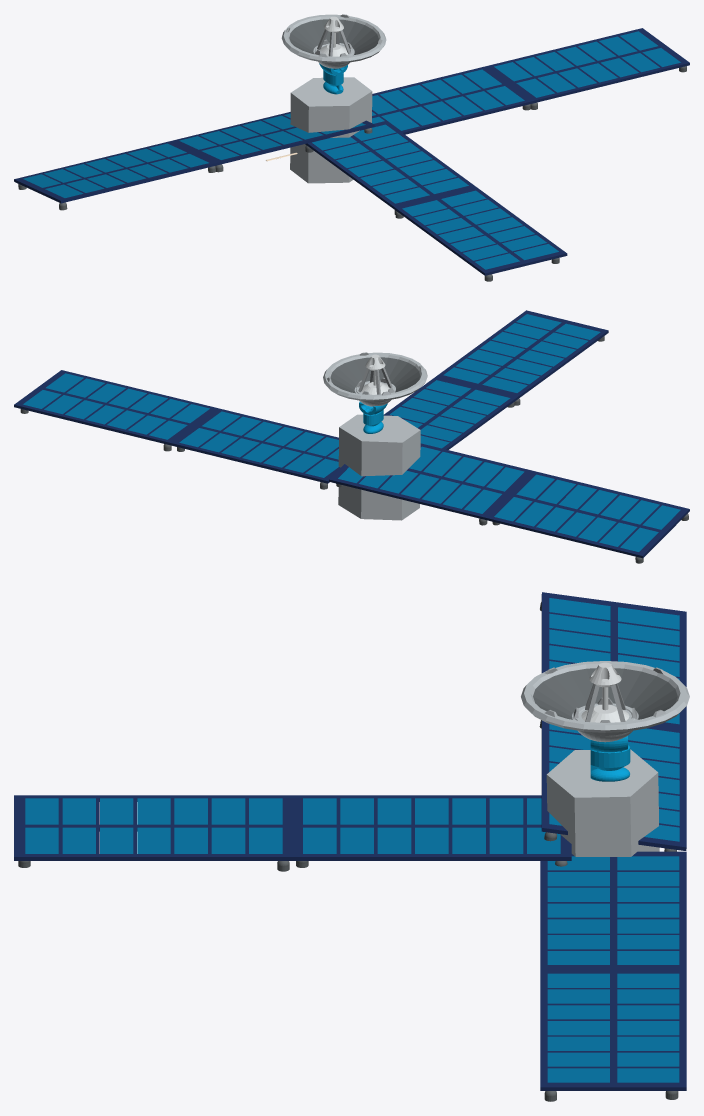
File: tinker.obj
3 views of the same model, one above another, from view 1: azimuth 30°, elevation 25°; view 2: azimuth 150°, elevation 25°; view 3: azimuth 270°, elevation 25° (orthographic). The views are drawn at different scales.
Visible parts, largest first — view 1: group_0_30377, group_0_1650274, group_0_12568524, group_0_6383466, group_0_40919, group_0_10988977, group_0_14541540; view 2: group_0_30377, group_0_1650274, group_0_12568524, group_0_6383466, group_0_40919, group_0_10988977, group_0_14541540; view 3: group_0_30377, group_0_1650274, group_0_12568524, group_0_6383466, group_0_40919, group_0_14541540, group_0_10988977.
Part boxes in pixels (x1,y1,x2,y2): group_0_30377: [23, 31, 680, 269]; group_0_1650274: [14, 28, 689, 275]; group_0_12568524: [281, 14, 386, 183]; group_0_6383466: [18, 19, 686, 281]; group_0_40919: [319, 63, 347, 94]; group_0_10988977: [286, 14, 382, 57]; group_0_14541540: [319, 16, 347, 56]; group_0_30377: [23, 314, 680, 551]; group_0_1650274: [14, 310, 689, 558]; group_0_12568524: [323, 352, 427, 520]; group_0_6383466: [20, 336, 688, 563]; group_0_40919: [359, 401, 387, 433]; group_0_10988977: [327, 352, 423, 395]; group_0_14541540: [361, 354, 389, 394]; group_0_30377: [25, 598, 679, 1082]; group_0_1650274: [14, 592, 686, 1090]; group_0_12568524: [521, 661, 689, 856]; group_0_6383466: [18, 602, 678, 1101]; group_0_40919: [590, 736, 630, 781]; group_0_14541540: [581, 662, 629, 722]; group_0_10988977: [544, 667, 666, 722].
Size of the model in its own units: 268 by 61 by 162.
